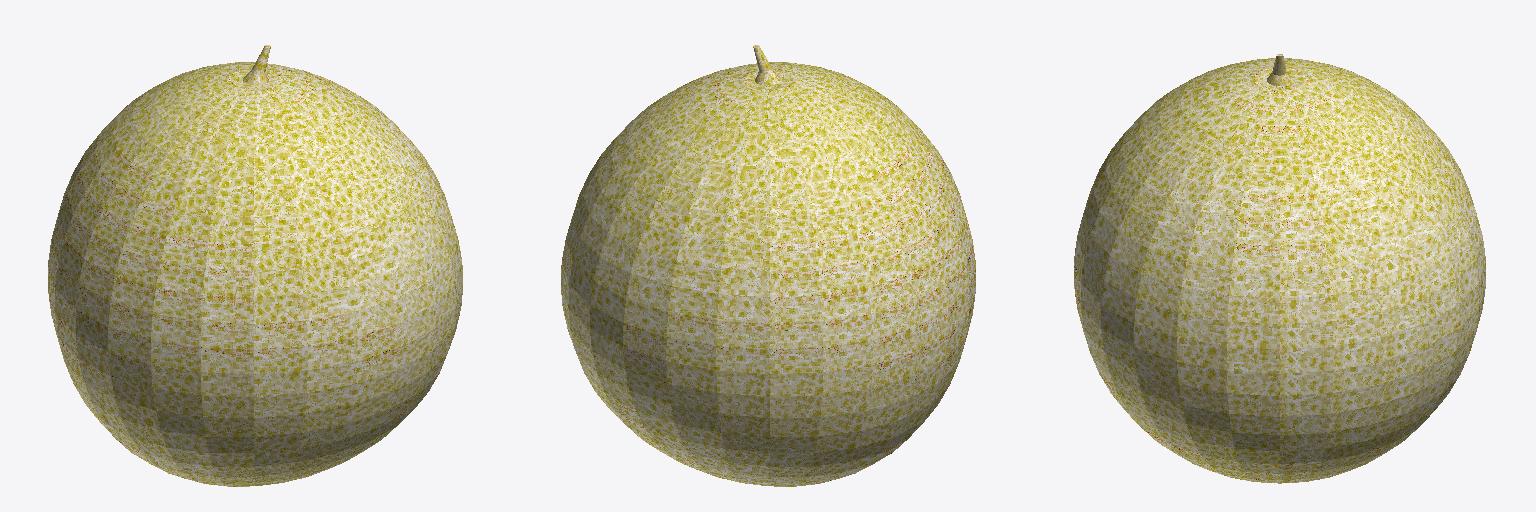
3 views of the same model, side by side, from view 1: azimuth 30°, elevation 25°; view 2: azimuth 150°, elevation 25°; view 3: azimuth 270°, elevation 25° (orthographic).
Size of the model in its own units: 0.333 by 0.3646 by 0.3293.
Materials: 1 (1 with a texture image).